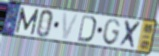0: (35, 9, 54, 39)
D: (77, 14, 97, 44)
G: (101, 18, 121, 47)
M: (15, 7, 40, 37)
V: (62, 12, 81, 42)
X: (118, 19, 143, 50)
